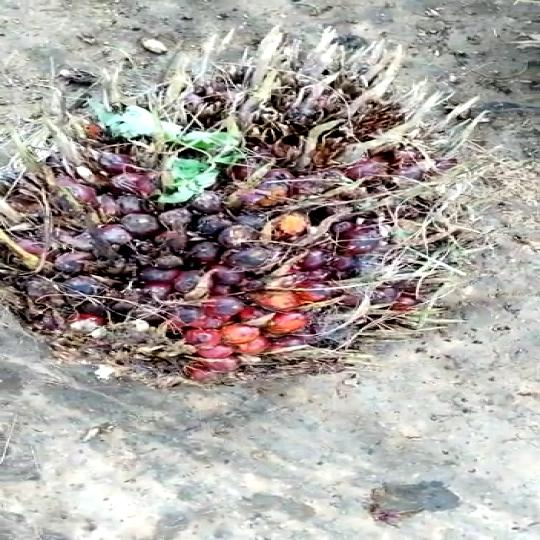masak: (0, 56, 538, 382)
